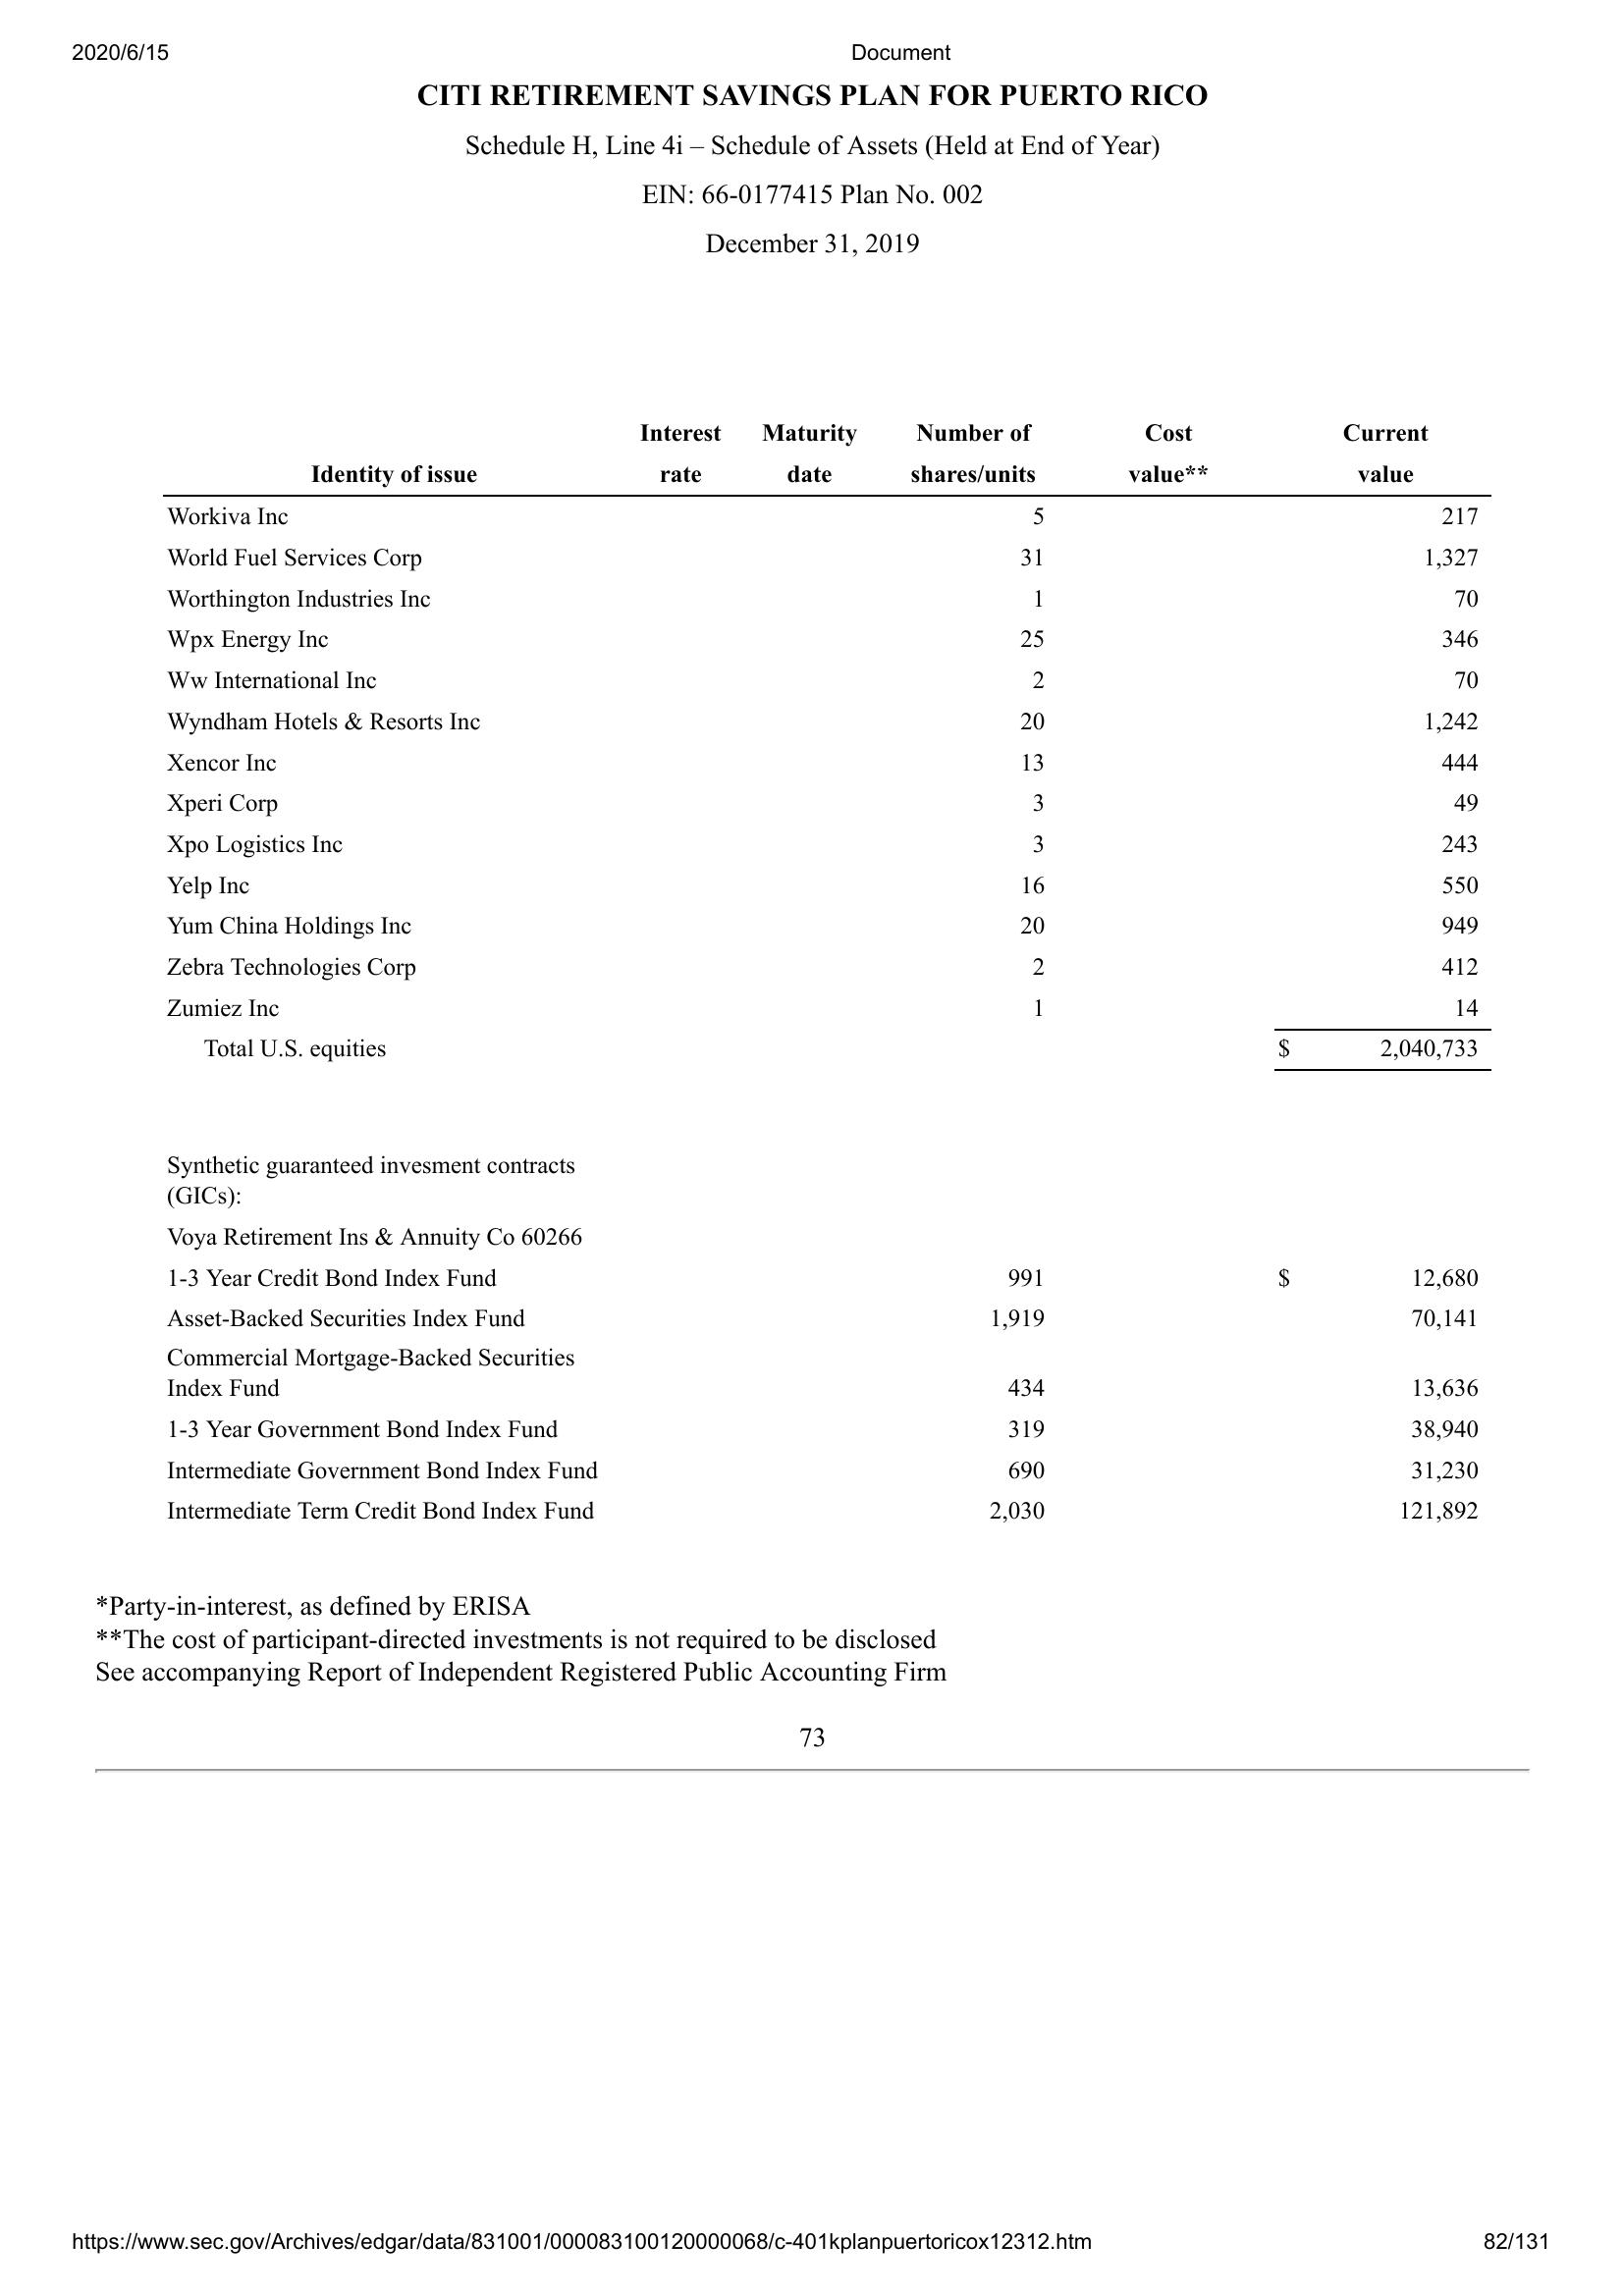table: (160, 425, 1500, 1083), (163, 1255, 1490, 1525)
